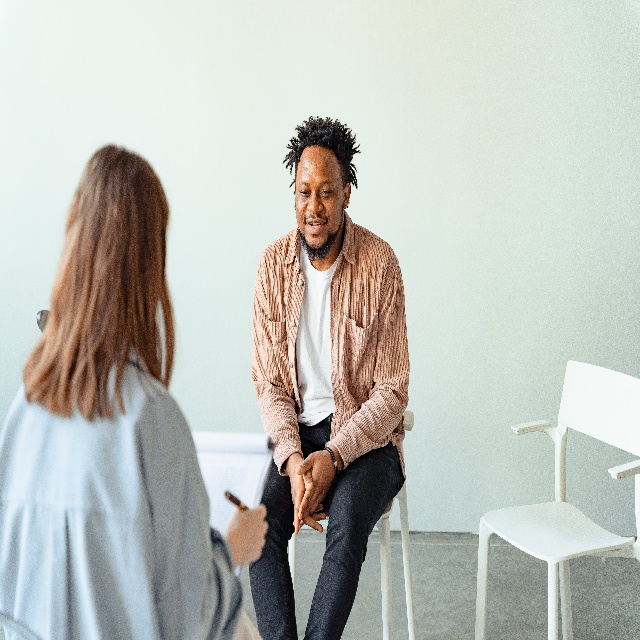Sin_guantes: (298, 449, 335, 530), (289, 455, 325, 533), (228, 502, 268, 567)
